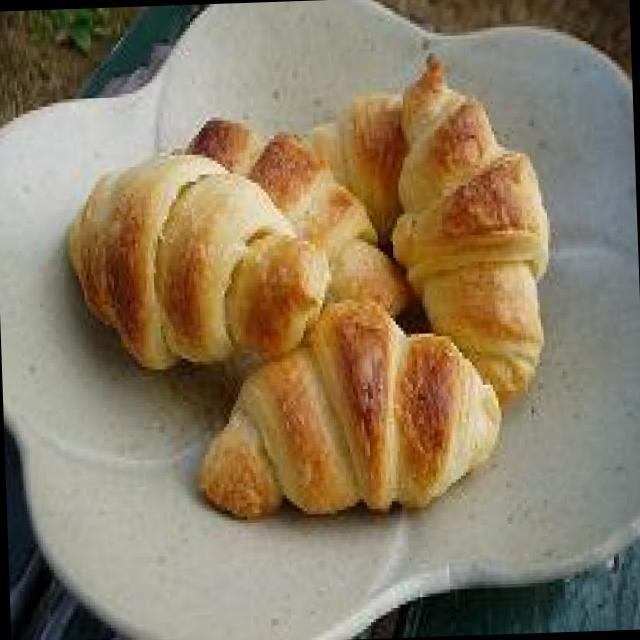Croissant: (48, 137, 326, 368)
